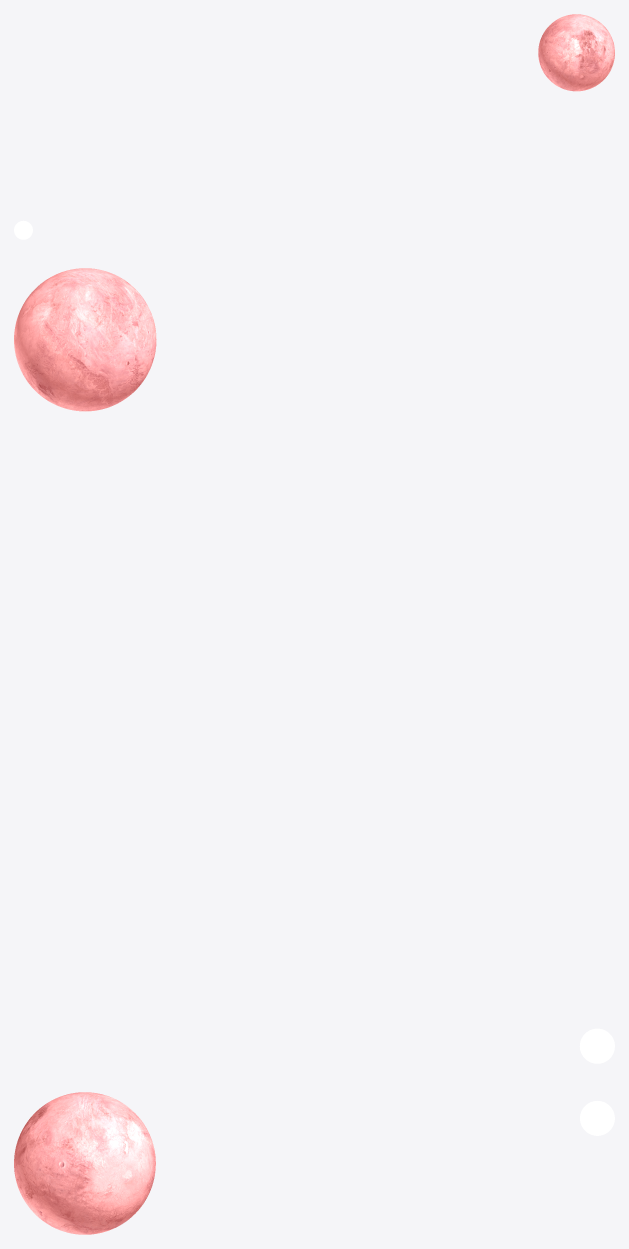
Rendered from YAVIN.glb.
The picture shows the model from 3 angles, top to bottom: view 1: azimuth 30°, elevation 25°; view 2: azimuth 150°, elevation 25°; view 3: azimuth 270°, elevation 25°; orthographic projection. The views are drawn at different scales.
Parts seen in each view (by area): view 1: YAVIN; view 2: YAVIN; view 3: YAVIN, SUN.
Boxes of the visible parts, x1,y1,x2,y2 form: YAVIN: (538,14,614,91); YAVIN: (14,268,156,411); YAVIN: (14,1092,155,1234); SUN: (580,1101,614,1135).
Size of the model in its own units: 16.92 by 7.86 by 10.45.
2 materials, 1 textured.
